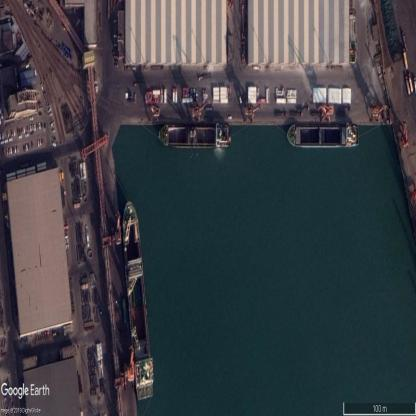ship: (158, 121, 233, 150), (287, 124, 360, 152)
